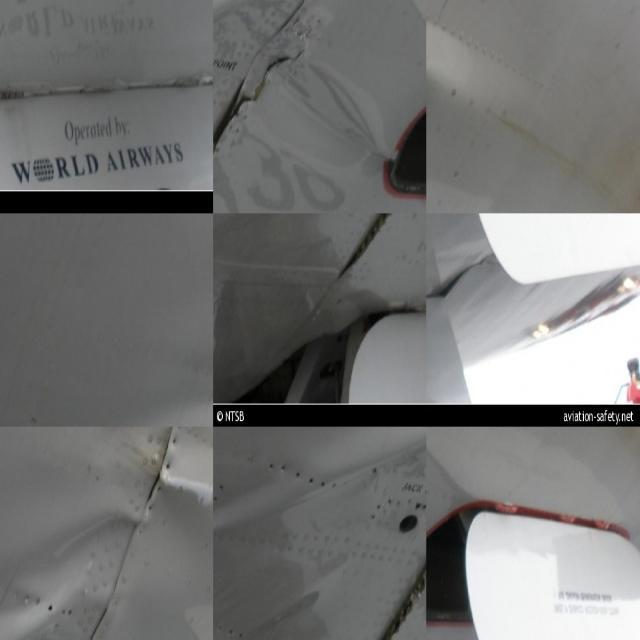crack: (225, 46, 314, 127)
